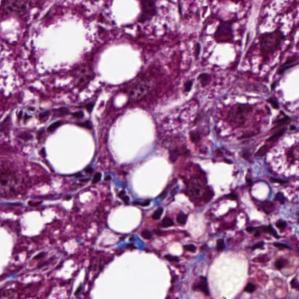inflammation: (9, 99, 96, 142), (240, 216, 296, 253), (145, 204, 195, 232), (175, 68, 216, 98), (114, 184, 156, 211)
